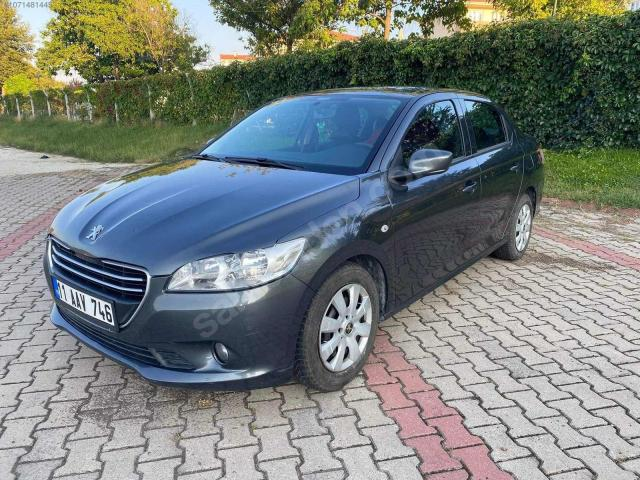plaka: (54, 280, 115, 326)
